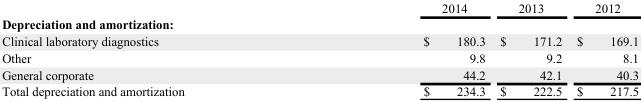table: (1, 0, 638, 97)
table column: (1, 0, 303, 97), (303, 0, 492, 97), (492, 0, 568, 97), (568, 0, 638, 97)
table column header: (1, 0, 638, 15)
table projected row header: (1, 15, 638, 32)
table row: (1, 15, 638, 32), (1, 32, 638, 49), (1, 65, 638, 82), (1, 49, 638, 65), (1, 0, 638, 15), (1, 82, 638, 97)
